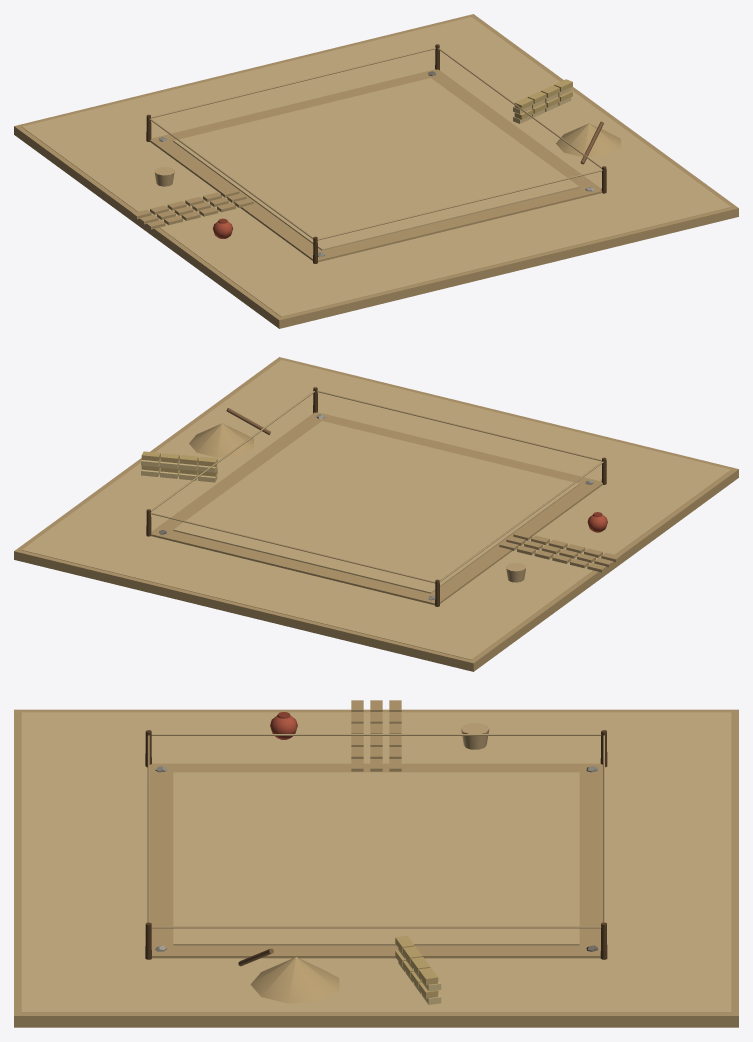
The model's file is rad-1-site.glb.
3 views of the same model, one above another, from view 1: azimuth 30°, elevation 25°; view 2: azimuth 150°, elevation 25°; view 3: azimuth 270°, elevation 25° (orthographic). The views are drawn at different scales.
Size of the model in its own units: 23.75 by 1.81 by 23.5.
13 materials, 1 textured.
